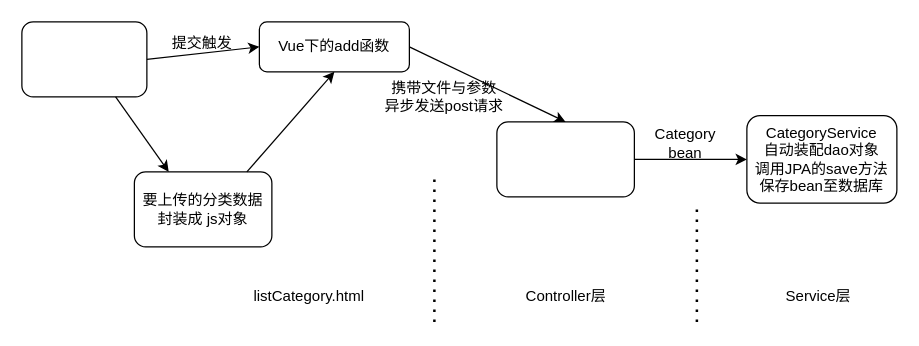
Some shapes in this 919 by 346 pixel diagram are drawn without their labels. The shapes that lost their labels are listed below. From the top down, each one's centre as x and y in pixels, then its label:
the point at 84,59: 新增分类标签div 输入分类名称 上传分类图片
the point at 565,159: CategoryController 处理图片文件
